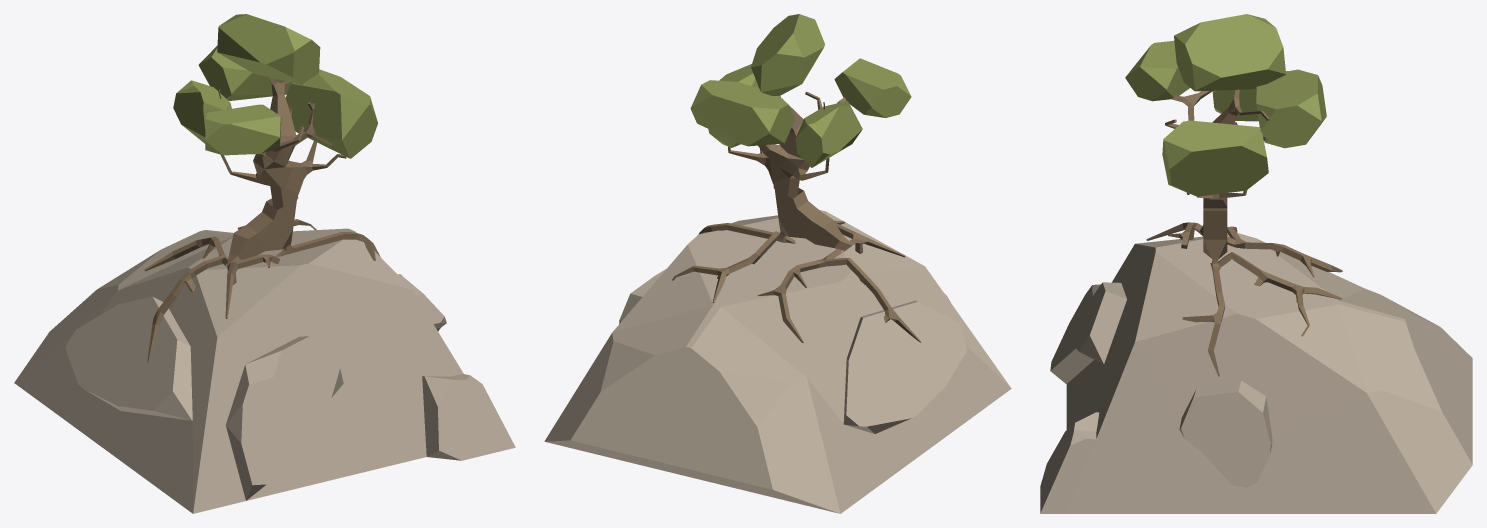
Rendered from stoneyhill.fbx.
3 renders of one model, left to right at view 1: azimuth 30°, elevation 25°; view 2: azimuth 150°, elevation 25°; view 3: azimuth 270°, elevation 25°, orthographic. The views are drawn at different scales.
Visible parts, largest first — view 1: mountain2, Plane.002, Cube.001, Cube, Cube.002, Cube.003, Cube.004; view 2: mountain2, Plane.002, Cube.003, Cube, Cube.002, Cube.004, Cube.001; view 3: mountain2, Cube, Plane.002, Cube.001, Cube.003, Cube.002, Cube.004.
Boxes of the visible parts, x1=… form: mountain2: x1=14, y1=228, x2=515, y2=513; Plane.002: x1=144, y1=76, x2=380, y2=362; Cube.001: x1=285, y1=69, x2=377, y2=158; Cube: x1=217, y1=14, x2=320, y2=84; Cube.002: x1=205, y1=104, x2=281, y2=155; Cube.003: x1=198, y1=45, x2=289, y2=100; Cube.004: x1=173, y1=80, x2=231, y2=143; mountain2: x1=544, y1=210, x2=1011, y2=513; Plane.002: x1=672, y1=80, x2=920, y2=342; Cube.003: x1=690, y1=80, x2=794, y2=146; Cube: x1=751, y1=14, x2=824, y2=95; Cube.002: x1=834, y1=58, x2=911, y2=117; Cube.004: x1=795, y1=101, x2=862, y2=167; Cube.001: x1=708, y1=64, x2=758, y2=147; mountain2: x1=1040, y1=233, x2=1472, y2=513; Cube: x1=1174, y1=14, x2=1285, y2=91; Plane.002: x1=1146, y1=89, x2=1342, y2=376; Cube.001: x1=1162, y1=120, x2=1268, y2=196; Cube.003: x1=1256, y1=69, x2=1326, y2=148; Cube.002: x1=1125, y1=40, x2=1189, y2=101; Cube.004: x1=1212, y1=71, x2=1287, y2=121.
Size of the model in its own units: 3694 by 4456 by 4212.
